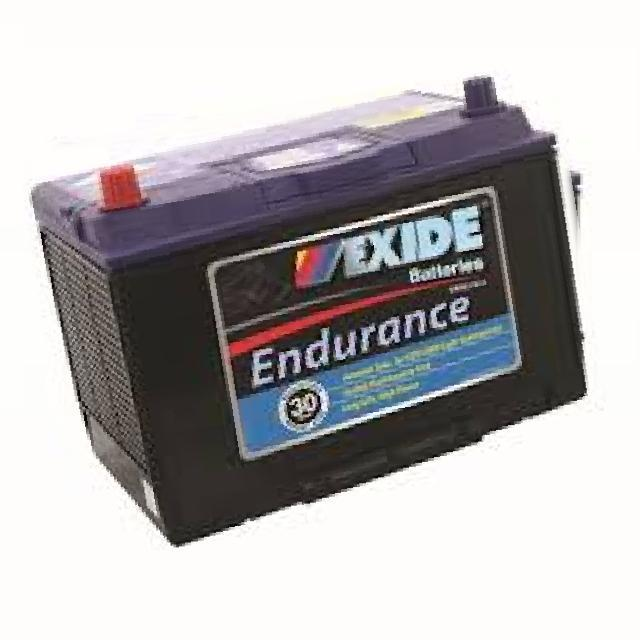Battery: (30, 76, 591, 552)
